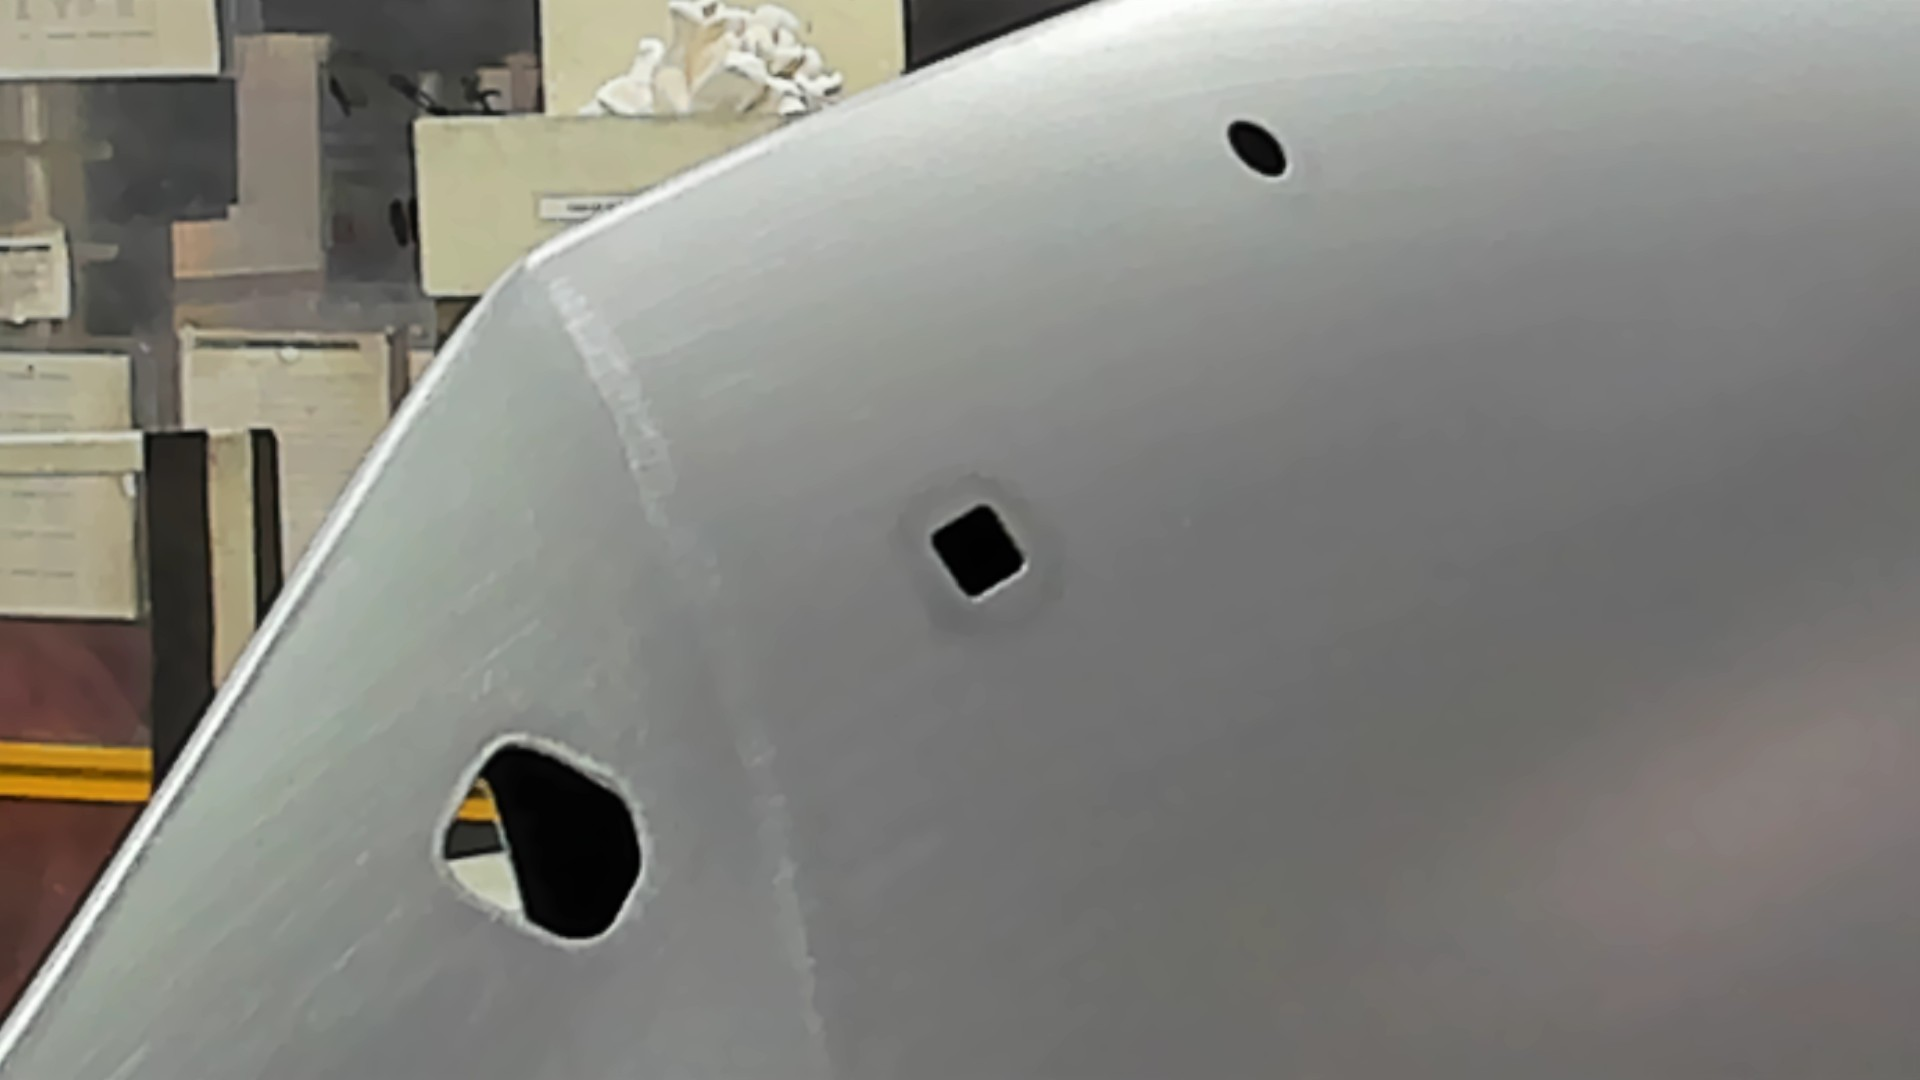chico: (1220, 111, 1295, 186)
grande: (433, 724, 655, 957)
mediano: (919, 497, 1036, 608)
